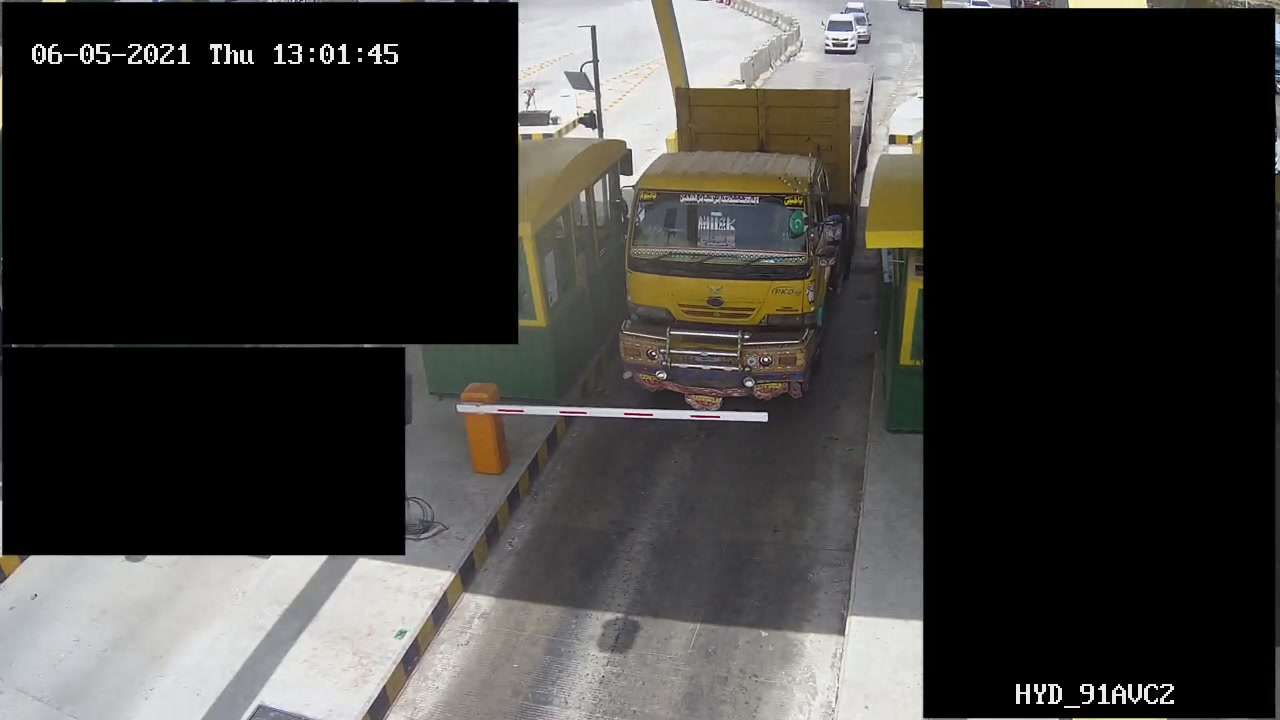F5: (621, 55, 873, 408)
